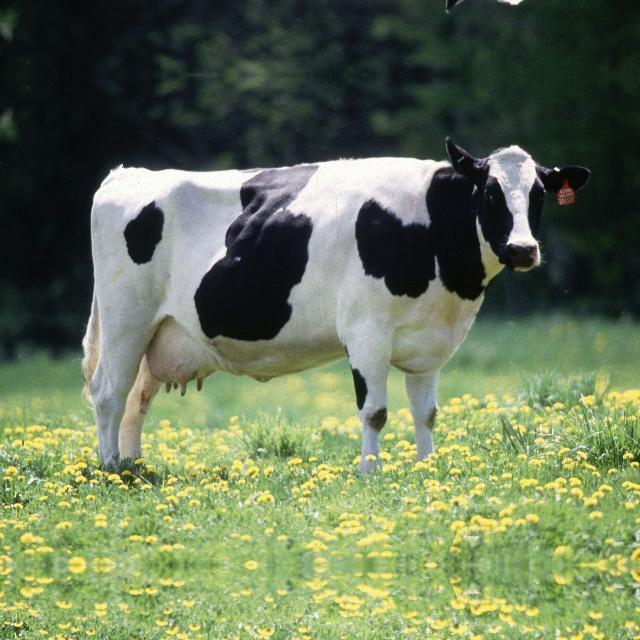obstacle: (36, 122, 580, 490), (35, 0, 580, 26), (35, 639, 580, 640)
